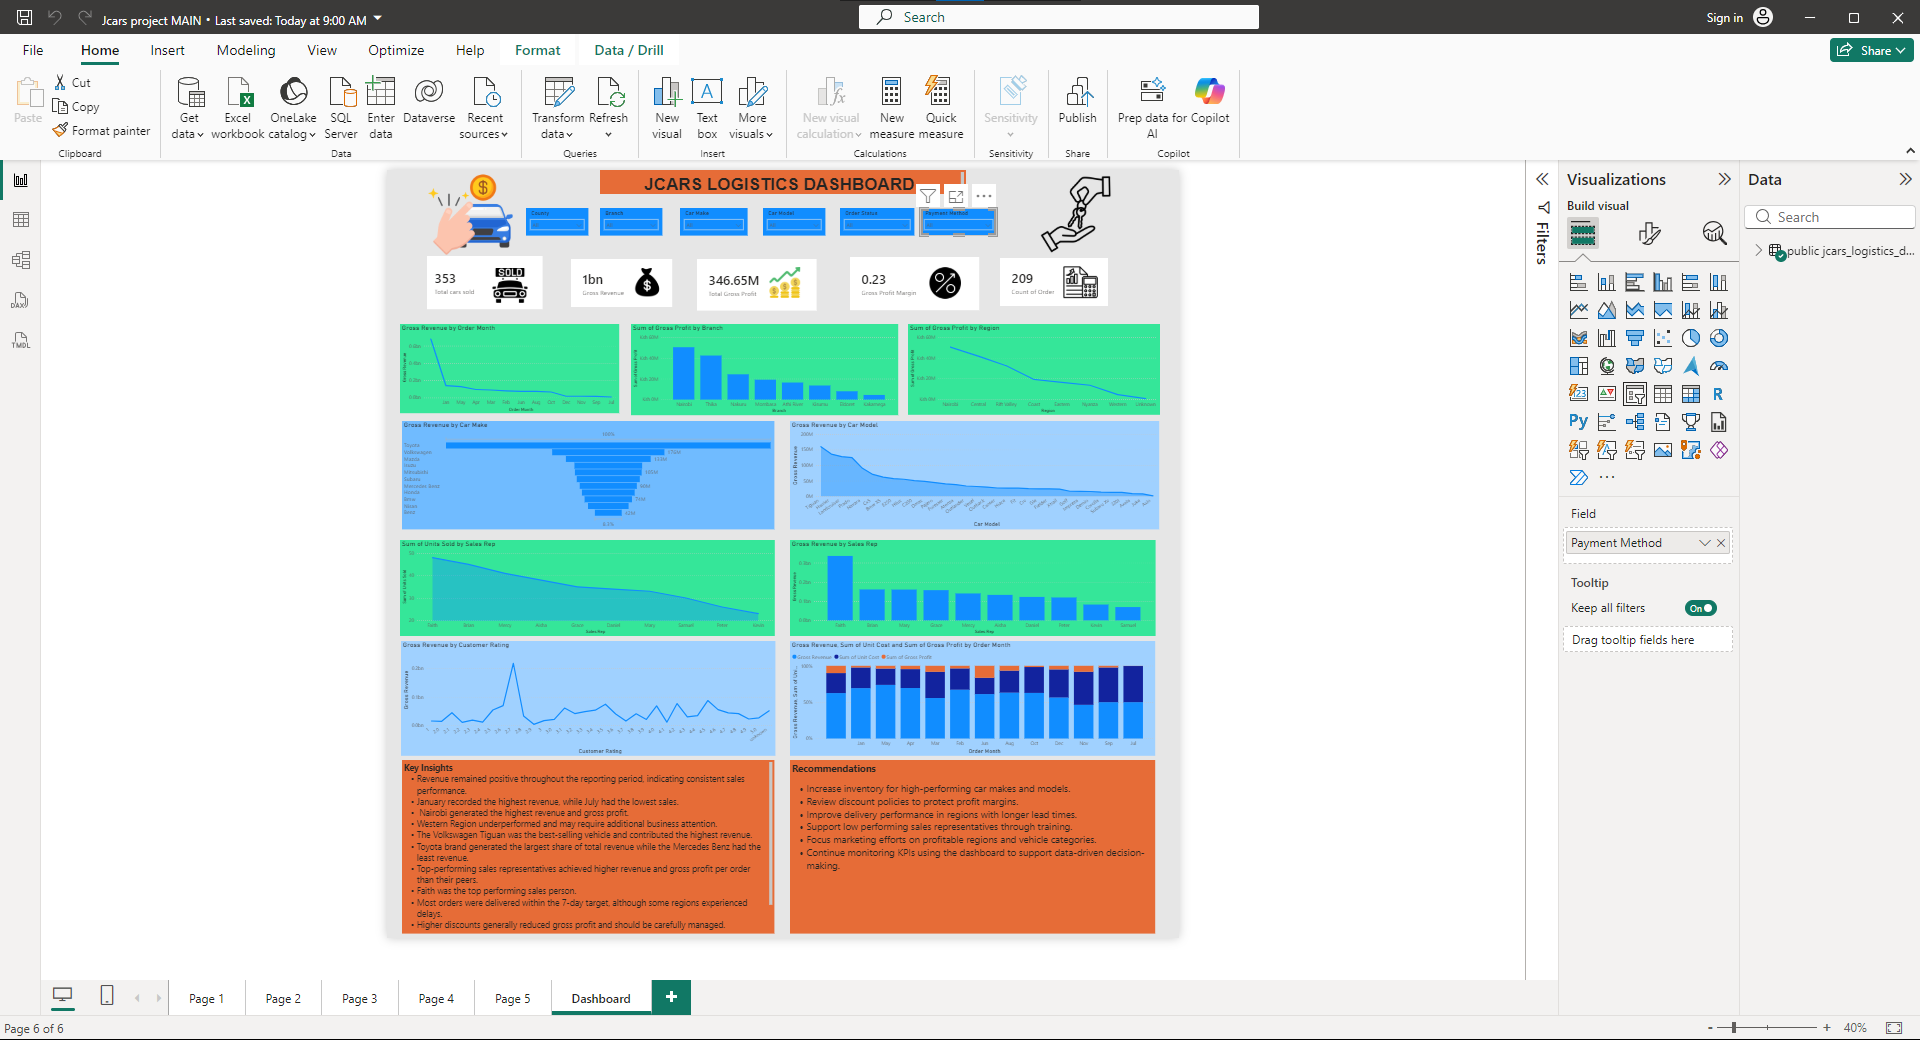

The dashboard page shown, as its layout file describes it:
{"tool":"powerbi","page":{"name":"Dashboard","canvas":[1980,1920],"ordinal":0},"visuals":[{"type":"textbox","box":[531.7,0,915,60],"z":0},{"type":"slicer","fields":{"Values":["public jcars_logistics_dataset.County"]},"box":[348.6,95.7,155.7,68.6],"z":1000},{"type":"slicer","fields":{"Values":["public jcars_logistics_dataset.Branch"]},"box":[532.9,95.7,155.7,68.6],"z":2000},{"type":"slicer","fields":{"Values":["public jcars_logistics_dataset.Car Model"]},"box":[940,95.7,155.7,68.6],"z":3000},{"type":"slicer","fields":{"Values":["public jcars_logistics_dataset.Order Status"]},"box":[1132.9,95.7,185.7,68.6],"z":4000},{"type":"slicer","fields":{"Values":["public jcars_logistics_dataset.Car Make"]},"box":[731.4,95.7,168.6,68.6],"z":5000},{"type":"cardVisual","fields":{"Data":["public jcars_logistics_dataset.Total cars sold","public jcars_logistics_dataset.Total cars sold"]},"box":[100,215.7,288.6,132.9],"z":6000},{"type":"cardVisual","fields":{"Data":["public jcars_logistics_dataset.Total Gross Profit"]},"box":[775.7,221.4,298.6,128.6],"z":7000},{"type":"cardVisual","fields":{"Data":["public jcars_logistics_dataset.Gross Profit Margin"]},"box":[1157.1,217.1,322.9,132.9],"z":8000},{"type":"cardVisual","fields":{"Data":["public jcars_logistics_dataset.Count of Order"]},"box":[1532.9,220,270,120],"z":9000},{"type":"lineChart","fields":{"Category":["public jcars_logistics_dataset.Order Month"],"Y":["public jcars_logistics_dataset.Gross Revenue"]},"box":[33.3,385,548.3,223.3],"z":10000},{"type":"columnChart","fields":{"Category":["public jcars_logistics_dataset.Branch"],"Y":["Sum(public jcars_logistics_dataset.Gross Profit)"]},"box":[610,386,668,228],"z":11000},{"type":"lineChart","fields":{"Category":["public jcars_logistics_dataset.Region"],"Y":["Sum(public jcars_logistics_dataset.Gross Profit)"]},"box":[1301.4,385.7,630,227.1],"z":12000},{"type":"funnel","fields":{"Category":["public jcars_logistics_dataset.Car Make"],"Y":["public jcars_logistics_dataset.Gross Revenue"]},"box":[38.6,628.6,931.4,271.4],"z":13000},{"type":"areaChart","fields":{"Category":["public jcars_logistics_dataset.Car Model"],"Y":["public jcars_logistics_dataset.Gross Revenue"]},"box":[1007.1,628.6,922.9,271.4],"z":14000},{"type":"image","box":[1525.7,5.7,394.3,211.4],"z":15000},{"type":"image","box":[17.1,0,382.9,222.9],"z":16000},{"type":"cardVisual","fields":{"Data":["public jcars_logistics_dataset.Gross Revenue"]},"box":[460,222.9,252.9,120],"z":17000},{"type":"image","box":[587.1,244.3,125.7,71.4],"z":18000},{"type":"image","box":[258.6,244.3,100,87.1],"z":19000},{"type":"image","box":[944.3,241.4,98.6,77.1],"z":20000},{"type":"image","box":[1341.4,238.6,105.7,90],"z":21000},{"type":"image","box":[1684.3,237.1,98.6,85.7],"z":22000},{"type":"slicer","fields":{"Values":["public jcars_logistics_dataset.Payment Method"]},"box":[1332.9,95.7,192.9,68.6],"z":23000},{"type":"stackedAreaChart","fields":{"Category":["public jcars_logistics_dataset.Sales Rep"],"Y":["Sum(public jcars_logistics_dataset.Units Sold)"]},"box":[32.9,925.7,937.1,240],"z":24000},{"type":"lineClusteredColumnComboChart","fields":{"Category":["public jcars_logistics_dataset.Sales Rep"],"Y":["public jcars_logistics_dataset.Gross Revenue"]},"box":[1007.1,925.7,914.3,240],"z":25000},{"type":"lineChart","fields":{"Category":["public jcars_logistics_dataset.Customer Rating"],"Y":["public jcars_logistics_dataset.Gross Revenue"]},"box":[34.3,1178.6,935.7,287.1],"z":26000},{"type":"hundredPercentStackedColumnChart","fields":{"Category":["public jcars_logistics_dataset.Order Month"],"Y":["public jcars_logistics_dataset.Gross Revenue","Sum(public jcars_logistics_dataset.Unit Cost)","Sum(public jcars_logistics_dataset.Gross Profit)"]},"box":[1007.1,1178.6,912.9,287.1],"z":27000},{"type":"textbox","box":[38.6,1475.7,931.4,434.3],"z":27001},{"type":"textbox","box":[1007,1476,913,434],"z":27002}]}

Visuals, with their boxes on the page's 1980x1920 design canvas (x1, y1, x2, y2). These are canvas units, not pixel positions in the 1920x1040 screenshot, which may show the page scaled, cropped or inside an application window:
textbox: (532, 0, 1447, 60)
slicer - public jcars_logistics_dataset.County: (349, 96, 504, 164)
slicer - public jcars_logistics_dataset.Branch: (533, 96, 689, 164)
slicer - public jcars_logistics_dataset.Car Model: (940, 96, 1096, 164)
slicer - public jcars_logistics_dataset.Order Status: (1133, 96, 1319, 164)
slicer - public jcars_logistics_dataset.Car Make: (731, 96, 900, 164)
cardVisual - public jcars_logistics_dataset.Total cars sold x public jcars_logistics_dataset.Total cars sold: (100, 216, 389, 349)
cardVisual - public jcars_logistics_dataset.Total Gross Profit: (776, 221, 1074, 350)
cardVisual - public jcars_logistics_dataset.Gross Profit Margin: (1157, 217, 1480, 350)
cardVisual - public jcars_logistics_dataset.Count of Order: (1533, 220, 1803, 340)
lineChart - public jcars_logistics_dataset.Order Month x public jcars_logistics_dataset.Gross Revenue: (33, 385, 582, 608)
columnChart - public jcars_logistics_dataset.Branch x Sum(public jcars_logistics_dataset.Gross Profit): (610, 386, 1278, 614)
lineChart - public jcars_logistics_dataset.Region x Sum(public jcars_logistics_dataset.Gross Profit): (1301, 386, 1931, 613)
funnel - public jcars_logistics_dataset.Car Make x public jcars_logistics_dataset.Gross Revenue: (39, 629, 970, 900)
areaChart - public jcars_logistics_dataset.Car Model x public jcars_logistics_dataset.Gross Revenue: (1007, 629, 1930, 900)
image: (1526, 6, 1920, 217)
image: (17, 0, 400, 223)
cardVisual - public jcars_logistics_dataset.Gross Revenue: (460, 223, 713, 343)
image: (587, 244, 713, 316)
image: (259, 244, 359, 331)
image: (944, 241, 1043, 318)
image: (1341, 239, 1447, 329)
image: (1684, 237, 1783, 323)
slicer - public jcars_logistics_dataset.Payment Method: (1333, 96, 1526, 164)
stackedAreaChart - public jcars_logistics_dataset.Sales Rep x Sum(public jcars_logistics_dataset.Units Sold): (33, 926, 970, 1166)
lineClusteredColumnComboChart - public jcars_logistics_dataset.Sales Rep x public jcars_logistics_dataset.Gross Revenue: (1007, 926, 1921, 1166)
lineChart - public jcars_logistics_dataset.Customer Rating x public jcars_logistics_dataset.Gross Revenue: (34, 1179, 970, 1466)
hundredPercentStackedColumnChart - public jcars_logistics_dataset.Order Month x public jcars_logistics_dataset.Gross Revenue: (1007, 1179, 1920, 1466)
textbox: (39, 1476, 970, 1910)
textbox: (1007, 1476, 1920, 1910)
